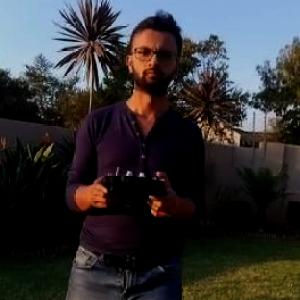follow: (60, 2, 208, 299)
